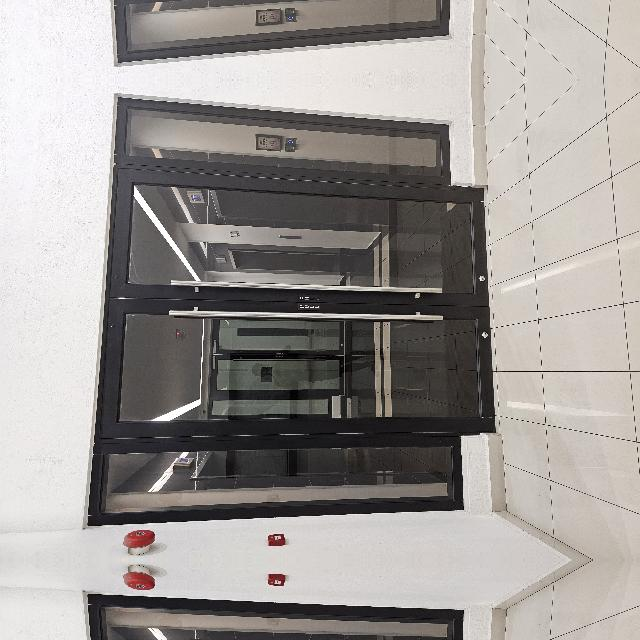door: (108, 166, 388, 574), (107, 545, 388, 640)
